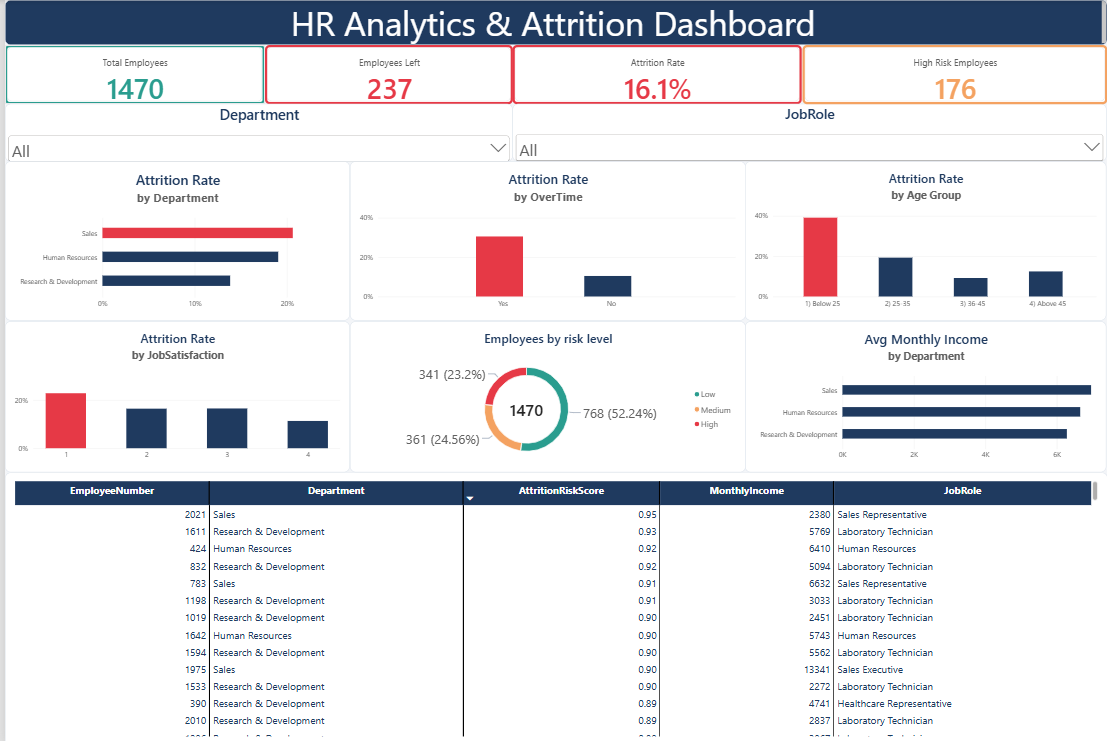

What the dashboard file says about the page in this screenshot:
{"tool":"powerbi","page":{"name":"Page 1","canvas":[1920,1300],"ordinal":0},"visuals":[{"type":"clusteredBarChart","fields":{"Category":["HR.Department"],"Y":["HR.Attrition Rate"]},"box":[0,282,601,277.9],"z":0},{"type":"clusteredColumnChart","fields":{"Category":["HR.OverTime"],"Y":["HR.Attrition Rate"]},"box":[601,282,689.5,277.9],"z":1000},{"type":"cardVisual","fields":{"Data":["HR.Total Employees"]},"box":[0,78.2,452.8,102.9],"z":2000},{"type":"cardVisual","fields":{"Data":["HR.Employees Left"]},"box":[452.8,78.2,432.2,102.9],"z":3000},{"type":"columnChart","fields":{"Category":["HR.Age Group"],"Y":["HR.Attrition Rate"]},"box":[1290.6,282,629.8,277.9],"z":4000},{"type":"barChart","fields":{"Category":["HR.Department"],"Y":["HR.Avg Monthly Income"]},"box":[1290.6,559.9,629.8,263.5],"z":5000},{"type":"columnChart","fields":{"Category":["HR.JobSatisfaction"],"Y":["HR.Attrition Rate"]},"box":[0,559.9,601,263.5],"z":6000},{"type":"donutChart","title":"Employees by risk level","fields":{"Category":["HR.RiskLevel"],"Y":["HR.Total Employees"]},"box":[601,559.9,689.5,263.5],"z":7000},{"type":"tableEx","fields":{"Values":["HR.EmployeeNumber","HR.Department","HR.AttritionRiskScore","HR.MonthlyIncome","HR.JobRole"]},"box":[0,823.4,1921.3,477],"z":8000},{"type":"textbox","box":[0,0,1920.4,78.2],"z":9000},{"type":"cardVisual","fields":{"Data":["HR.Attrition Rate"]},"box":[885.1,78.2,504.3,102.9],"z":10000},{"type":"slicer","title":"Department ","fields":{"Values":["HR.Department"]},"box":[0,181.1,885.1,100.9],"z":11000},{"type":"slicer","title":"JobRole","fields":{"Values":["HR.JobRole"]},"box":[885.1,181.1,1035.3,100.9],"z":12000},{"type":"cardVisual","fields":{"Data":["HR.High Risk Employees"]},"box":[1389.4,78.2,531,102.9],"z":13000}]}

Visuals, with their boxes in screenshot pixels (x1, y1, x2, y2), scaled from the page's 1920x1300 canvas onto the 1107x741 screenshot:
clusteredBarChart - HR.Department x HR.Attrition Rate: Rect(0, 161, 347, 319)
clusteredColumnChart - HR.OverTime x HR.Attrition Rate: Rect(347, 161, 744, 319)
cardVisual - HR.Total Employees: Rect(0, 45, 261, 103)
cardVisual - HR.Employees Left: Rect(261, 45, 510, 103)
columnChart - HR.Age Group x HR.Attrition Rate: Rect(744, 161, 1106, 319)
barChart - HR.Department x HR.Avg Monthly Income: Rect(744, 319, 1106, 469)
columnChart - HR.JobSatisfaction x HR.Attrition Rate: Rect(0, 319, 347, 469)
"Employees by risk level" donutChart: Rect(347, 319, 744, 469)
tableEx - HR.EmployeeNumber x HR.Department: Rect(0, 469, 1106, 740)
textbox: Rect(0, 0, 1106, 45)
cardVisual - HR.Attrition Rate: Rect(510, 45, 801, 103)
"Department " slicer: Rect(0, 103, 510, 161)
"JobRole" slicer: Rect(510, 103, 1106, 161)
cardVisual - HR.High Risk Employees: Rect(801, 45, 1106, 103)
